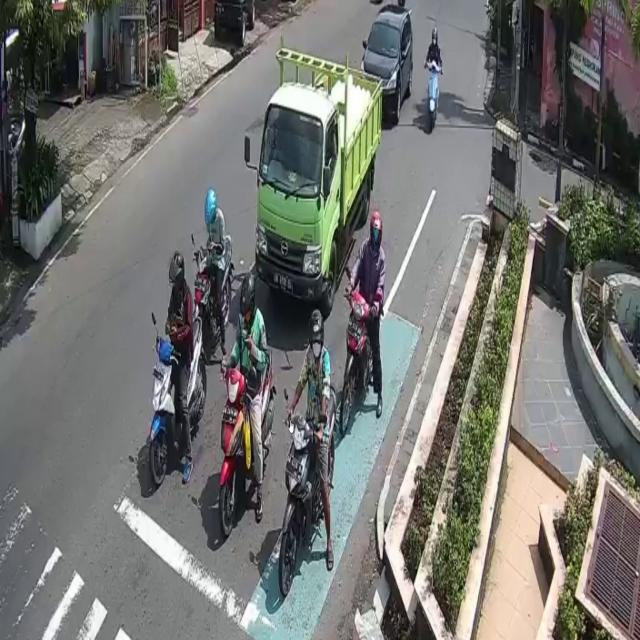bus: (279, 383, 339, 596), (148, 313, 208, 488), (221, 349, 276, 537), (339, 294, 380, 434), (190, 234, 233, 344), (424, 61, 443, 132)
motorcycle: (361, 3, 413, 124)
truck: (256, 45, 384, 313)
